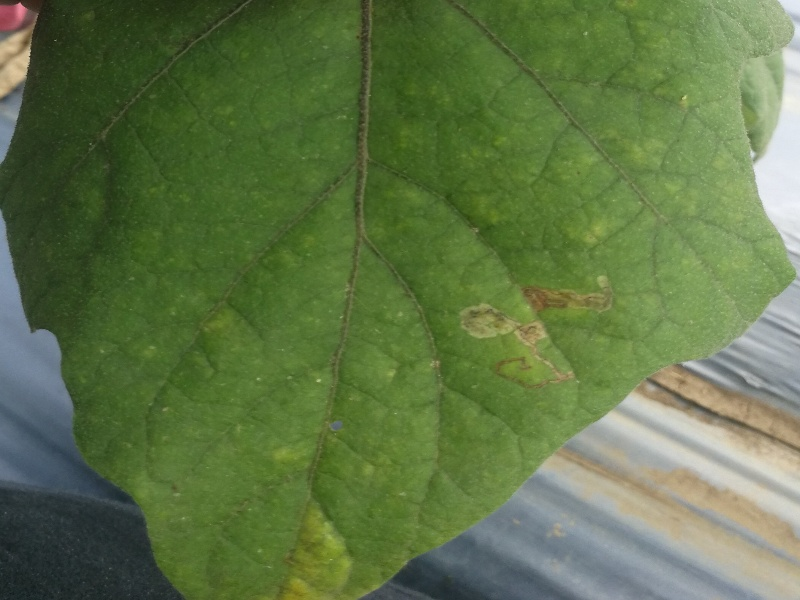leafminer: (439, 255, 643, 399)
